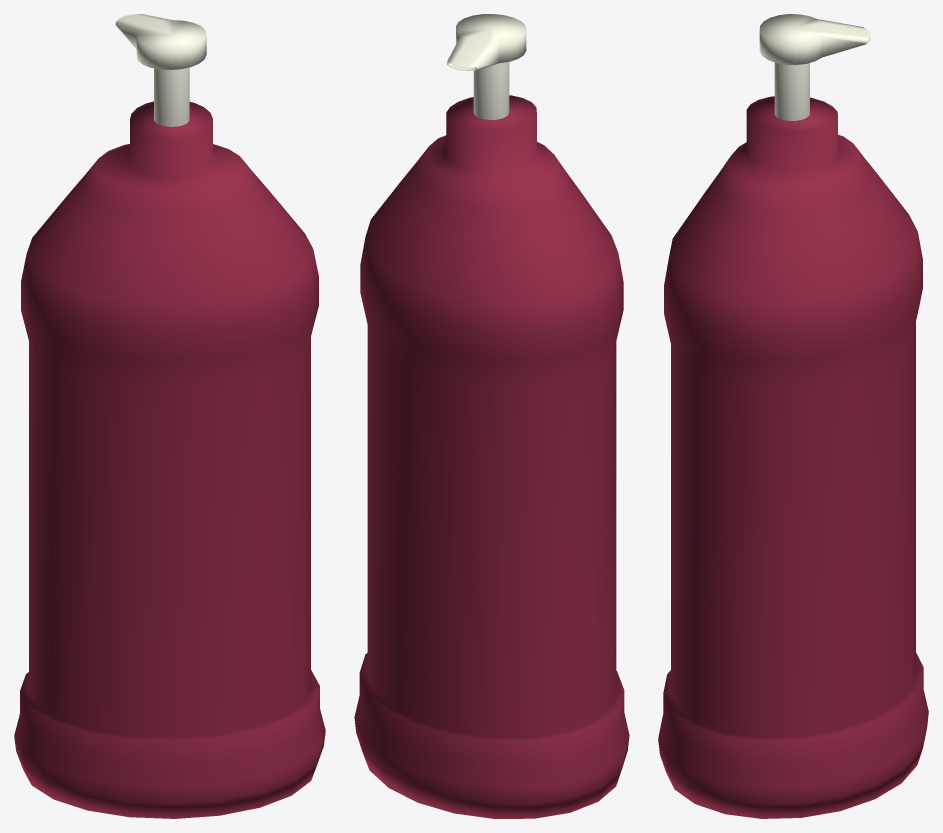
The model's file is Bottle1.fbx.
The picture shows the model from 3 angles, left to right: view 1: azimuth 30°, elevation 25°; view 2: azimuth 150°, elevation 25°; view 3: azimuth 270°, elevation 25°; orthographic projection.
Visible parts, largest first — view 1: pCylinder11, pCylinder37, pCylinder12; view 2: pCylinder11, pCylinder37, pCylinder12; view 3: pCylinder11, pCylinder37, pCylinder12.
Part boxes in pixels (x1=…): pCylinder11: x1=14, y1=101, x2=325, y2=818; pCylinder37: x1=115, y1=14, x2=206, y2=69; pCylinder12: x1=154, y1=67, x2=189, y2=126; pCylinder11: x1=354, y1=95, x2=629, y2=818; pCylinder37: x1=447, y1=14, x2=526, y2=71; pCylinder12: x1=473, y1=62, x2=509, y2=119; pCylinder11: x1=658, y1=96, x2=928, y2=818; pCylinder37: x1=759, y1=14, x2=870, y2=64; pCylinder12: x1=774, y1=62, x2=809, y2=120.
Size of the model in its own units: 18.93 by 51.03 by 17.13.
